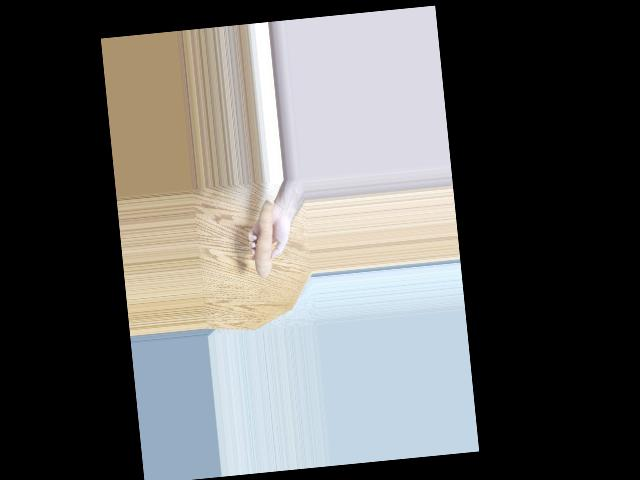sweet_potato: (244, 203, 281, 279)
